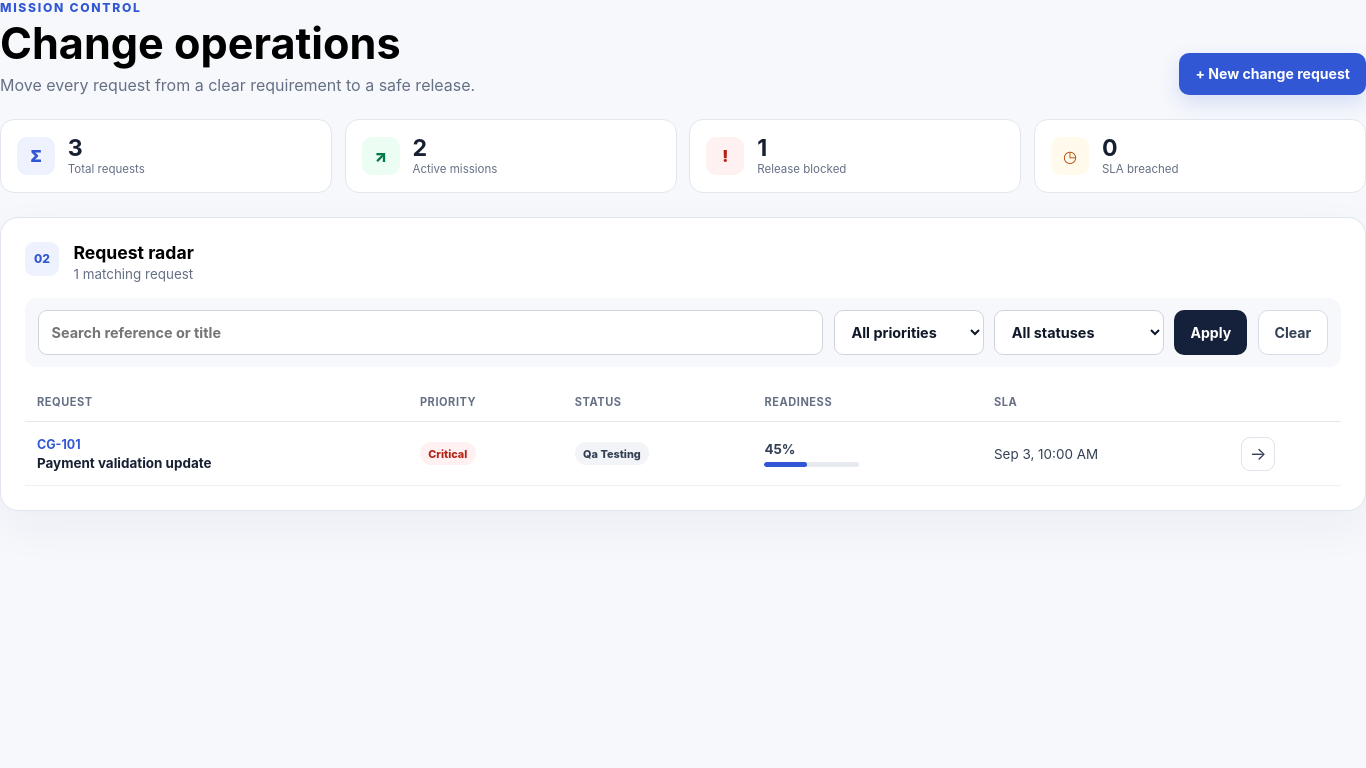
Test case: ChangeRequestWorkspace › opens persisted request details with release blockers
Click the button "CG-101 Payment validation update": (124, 454) x1=37 y1=437 x2=212 y2=471
(page scrolled)
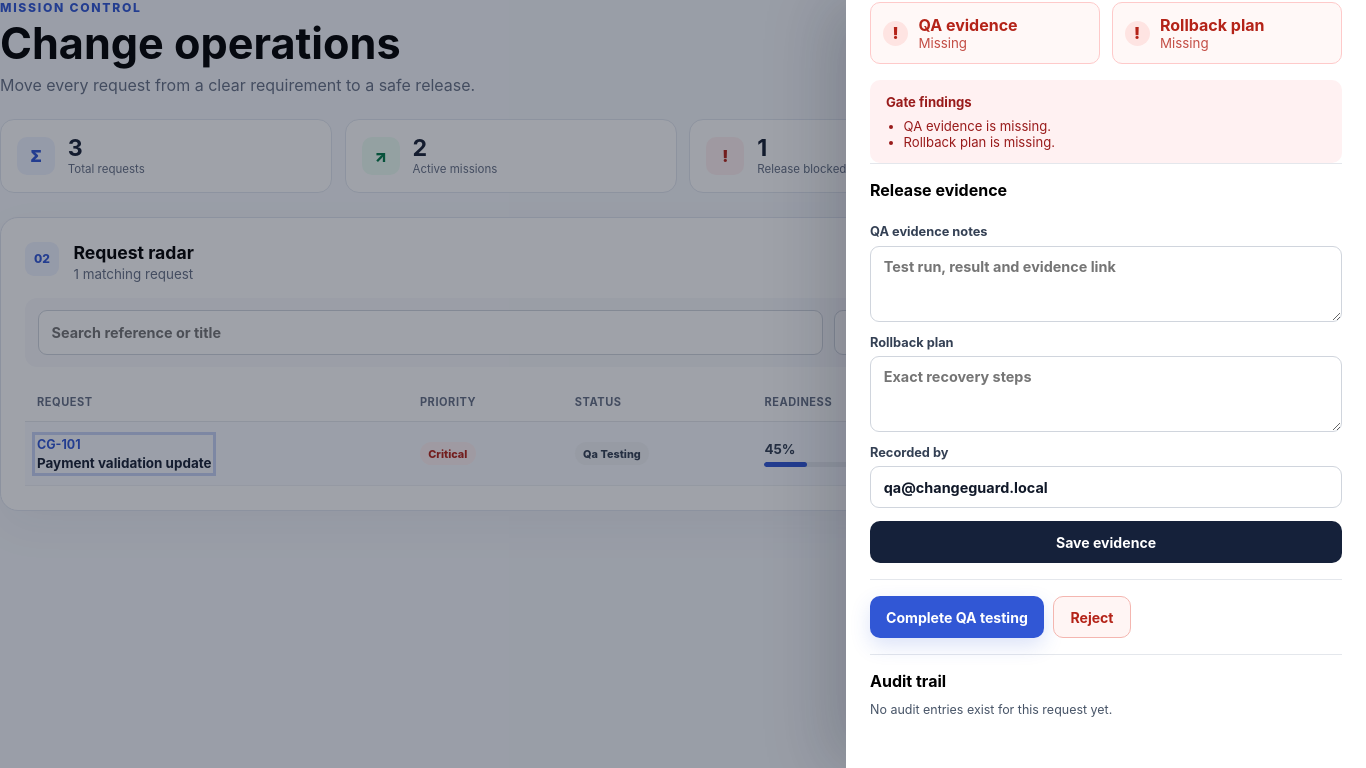
Check: the dialog is shown, box x1=846 y1=0 x2=1365 y2=767
Check: the list item "QA evidence is missing." is shown, box x1=904 y1=118 x2=1051 y2=134
Check: the button "Complete QA testing" is shown, box x1=870 y1=596 x2=1044 y2=638
